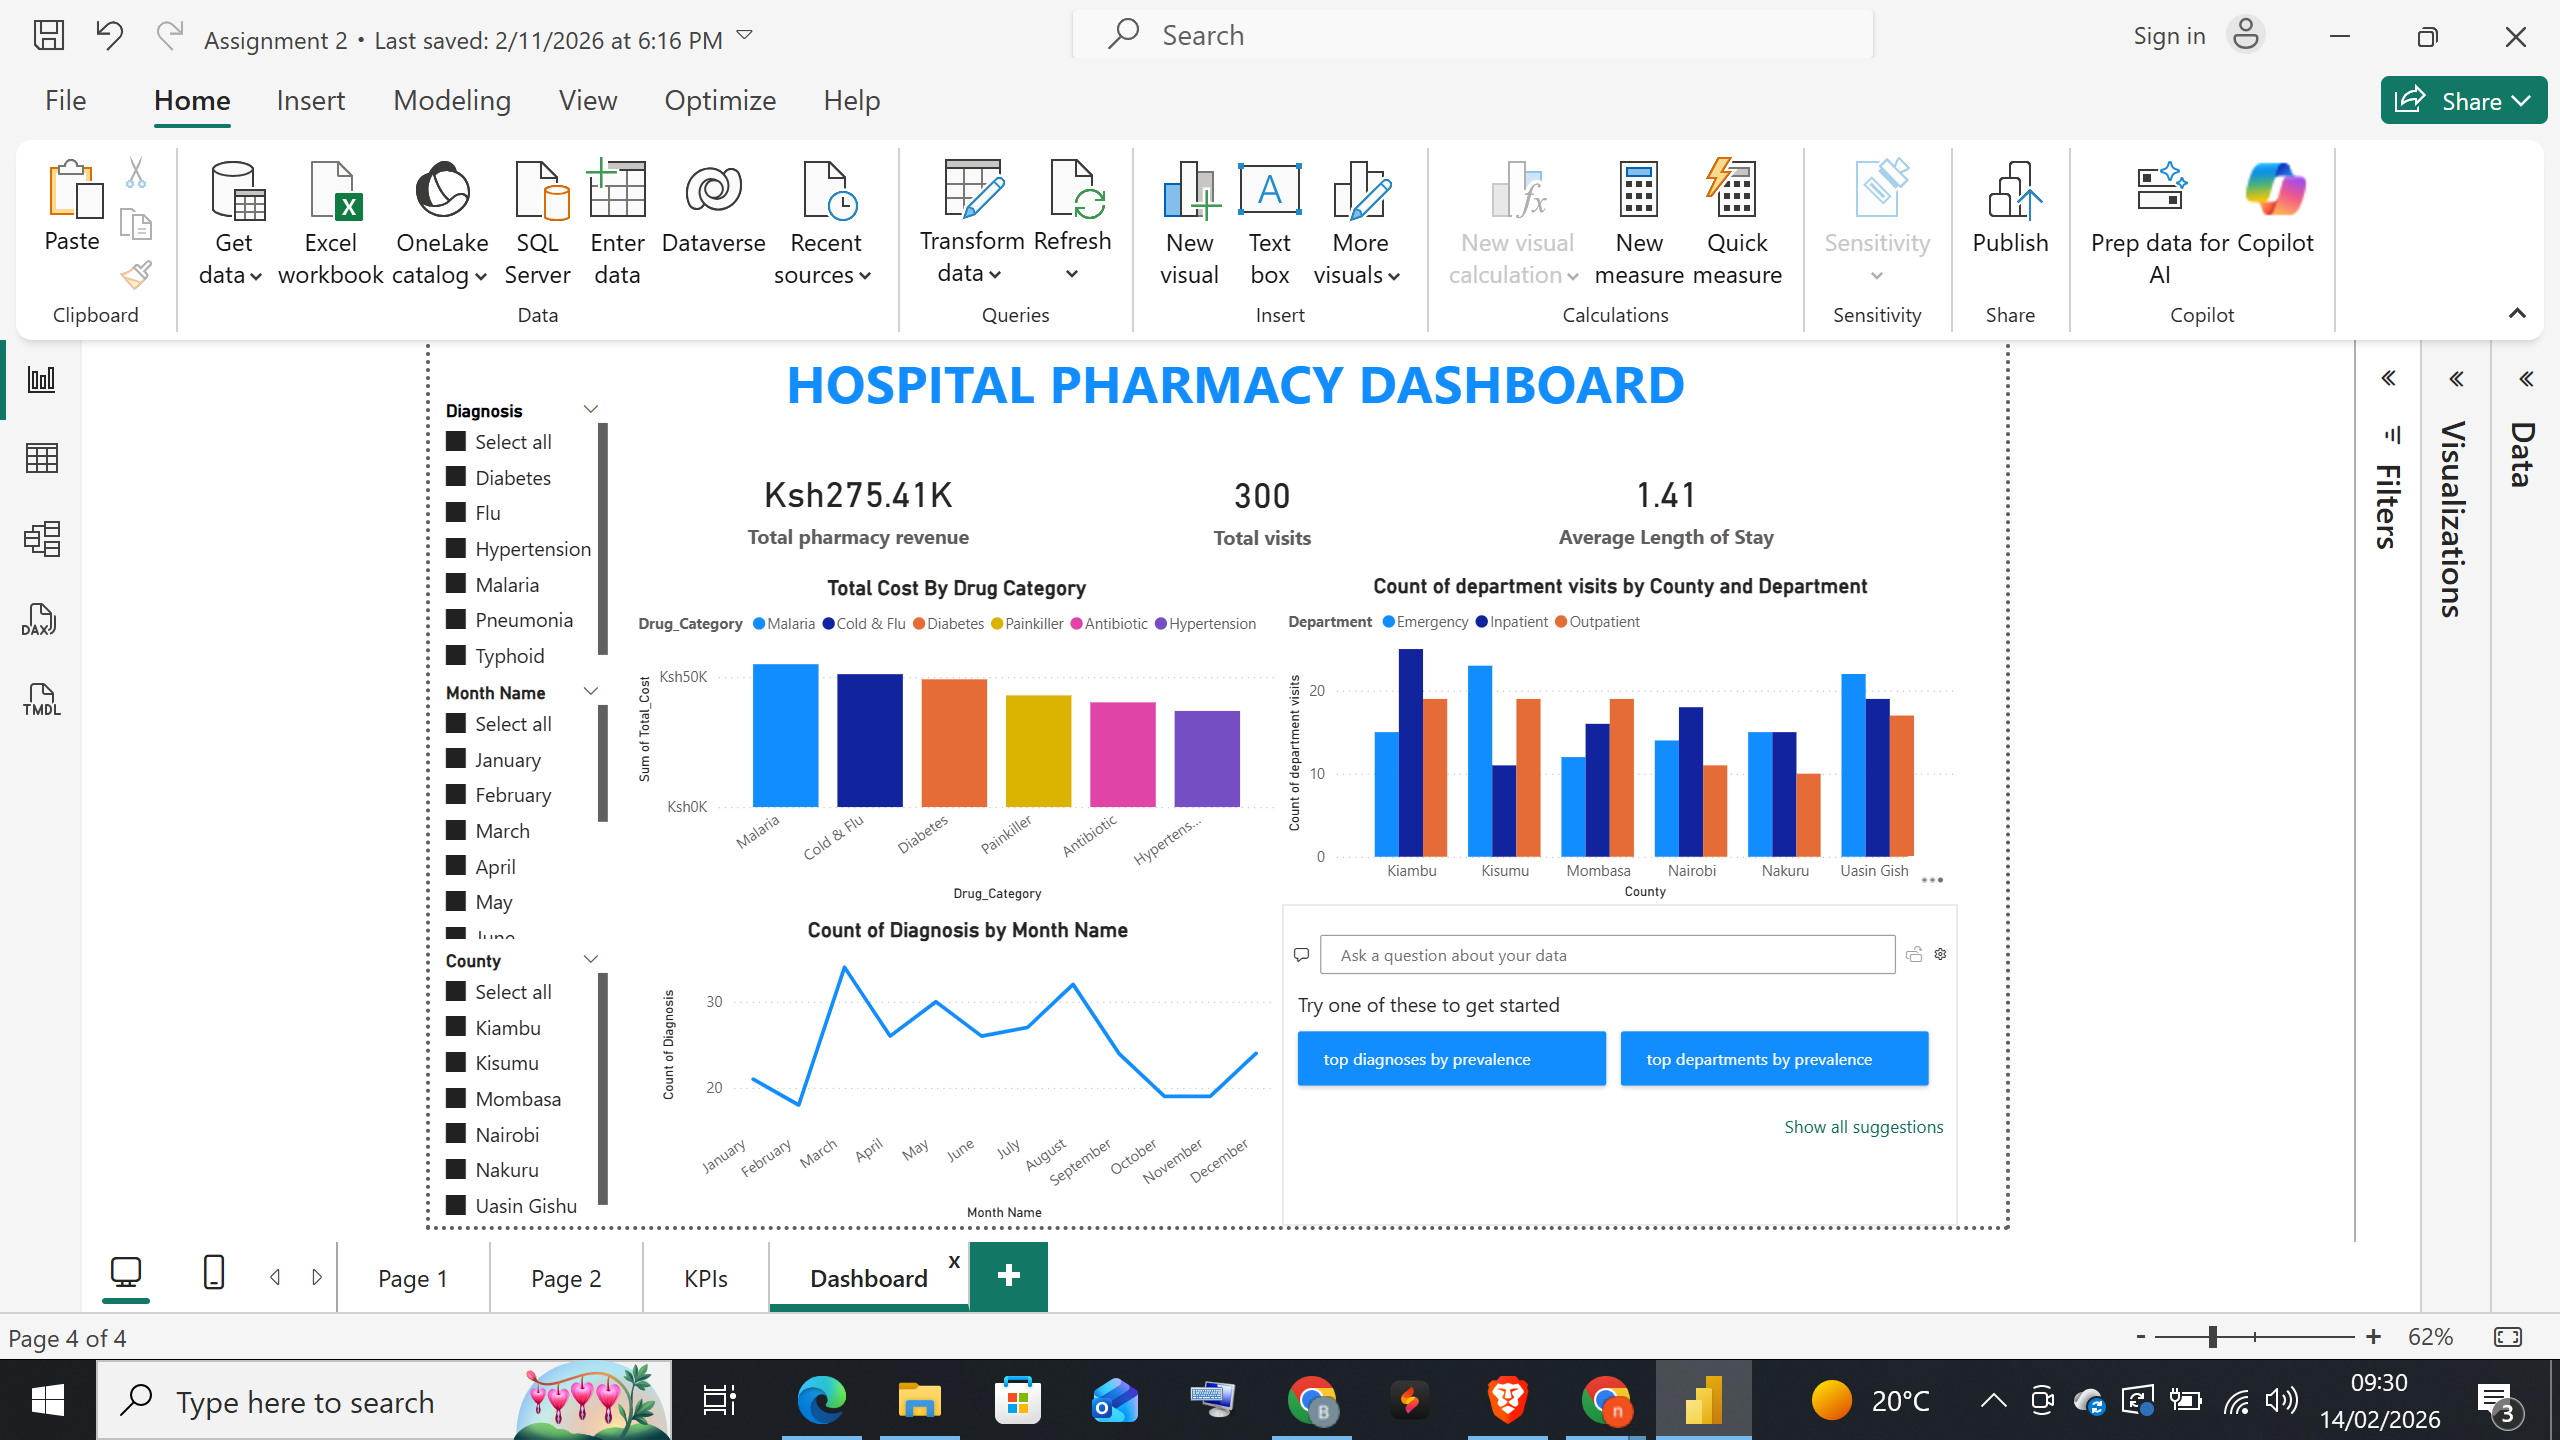

The dashboard page shown, as its layout file describes it:
{"tool":"powerbi","page":{"name":"Dashboard","canvas":[1280,720],"ordinal":3},"visuals":[{"type":"card","fields":{"Values":["DimDates.Total visits"]},"box":[535.7,77.1,280.1,118.4],"z":0},{"type":"card","fields":{"Values":["DimDates.Total pharmacy revenue"]},"box":[208.6,77.1,280.1,116.5],"z":1000},{"type":"card","fields":{"Values":["DimDates.Average Length of Stay"]},"box":[864.6,77.1,280.1,116.5],"z":2000},{"type":"columnChart","title":"Total Cost By Drug Category","fields":{"Y":["Sum(FactTransactions.Total_Cost)"],"Category":["DimDrugs.Drug_Category"],"Series":["DimDrugs.Drug_Category"]},"box":[163.5,191.7,528.2,268.8],"z":3000},{"type":"clusteredColumnChart","fields":{"Category":["DimPatients.County","DimVisits.Department"],"Y":["DimDates.Count of department visits"],"Series":["DimVisits.Department"]},"box":[691.7,189.8,550.7,268.8],"z":4000},{"type":"slicer","fields":{"Values":["DimPatients.County"]},"box":[0,490.4,149.6,229.1],"z":5000},{"type":"slicer","fields":{"Values":["DimVisits.Diagnosis"]},"box":[0,43.6,149.6,229.1],"z":6000},{"type":"slicer","fields":{"Values":["DimDates.Month Name"]},"box":[0,272.7,149.6,217.8],"z":7000},{"type":"lineChart","fields":{"Category":["DimDates.Month Name"],"Y":["CountNonNull(DimVisits.Diagnosis)"]},"box":[184.2,469.9,507.5,250],"z":8000},{"type":"qnaVisual","box":[691.7,469.9,550.7,250],"z":9000},{"type":"textbox","box":[163.5,0,981.1,78.9],"z":10000},{"type":"qnaVisual","box":[691.7,458.6,550.7,261.3],"z":11000}]}

Visuals, with their boxes on the page's 1280x720 design canvas (x1, y1, x2, y2). These are canvas units, not pixel positions in the 2560x1440 screenshot, which may show the page scaled, cropped or inside an application window:
card - DimDates.Total visits: bbox=[536, 77, 816, 196]
card - DimDates.Total pharmacy revenue: bbox=[209, 77, 489, 194]
card - DimDates.Average Length of Stay: bbox=[865, 77, 1145, 194]
"Total Cost By Drug Category" columnChart: bbox=[164, 192, 692, 460]
clusteredColumnChart - DimPatients.County x DimVisits.Department: bbox=[692, 190, 1242, 459]
slicer - DimPatients.County: bbox=[0, 490, 150, 720]
slicer - DimVisits.Diagnosis: bbox=[0, 44, 150, 273]
slicer - DimDates.Month Name: bbox=[0, 273, 150, 490]
lineChart - DimDates.Month Name x CountNonNull(DimVisits.Diagnosis): bbox=[184, 470, 692, 720]
qnaVisual: bbox=[692, 470, 1242, 720]
textbox: bbox=[164, 0, 1145, 79]
qnaVisual: bbox=[692, 459, 1242, 720]
